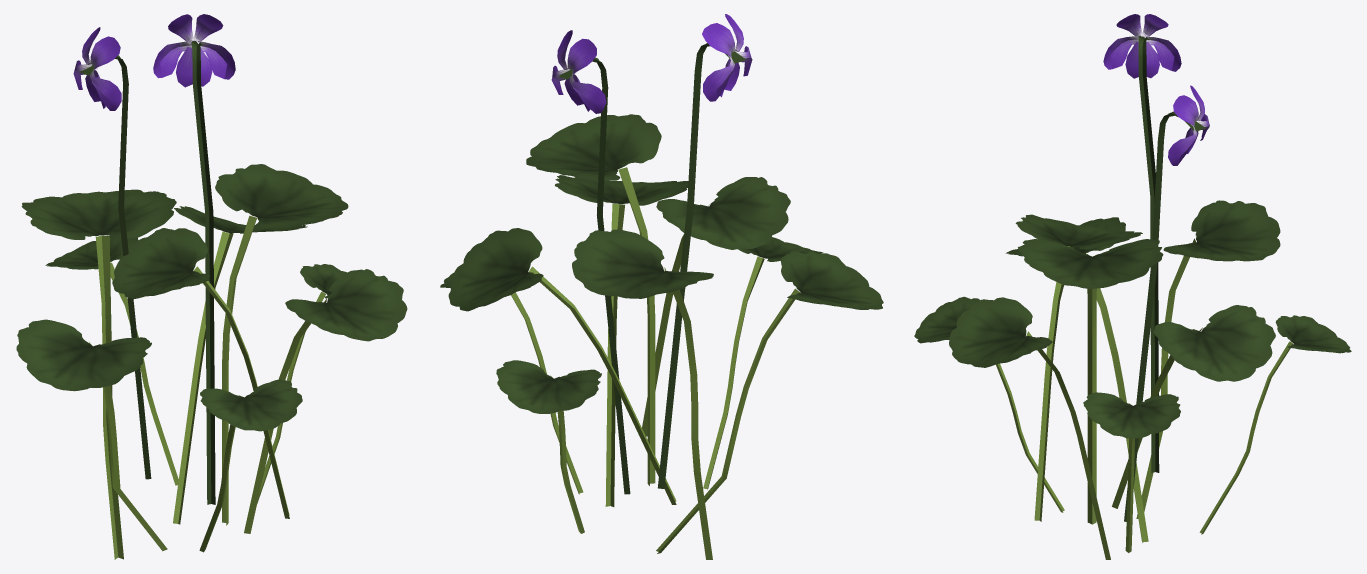
File: flores1.fbx
3 renders of one model, left to right at view 1: azimuth 30°, elevation 25°; view 2: azimuth 150°, elevation 25°; view 3: azimuth 270°, elevation 25°, orthographic. The views are drawn at different scales.
Visible parts, largest first — view 1: MH_Violet_02_Shape; view 2: MH_Violet_02_Shape; view 3: MH_Violet_02_Shape.
Boxes of the visible parts, <box> form: MH_Violet_02_Shape: <box>16,14,407,559</box>; MH_Violet_02_Shape: <box>440,14,883,559</box>; MH_Violet_02_Shape: <box>914,14,1351,559</box>.
Bounding box in the file's own units: 12.82 × 16.83 × 13.36.
Materials: 3 (3 with a texture image).
